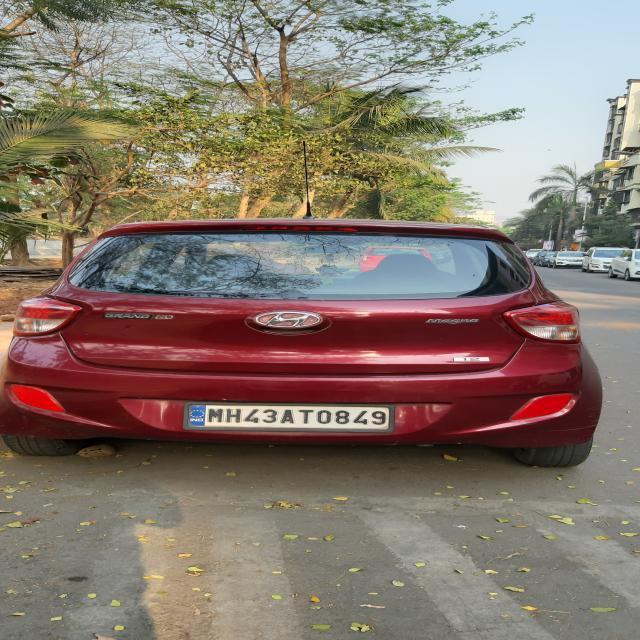Number-Plate: (182, 401, 396, 428)
